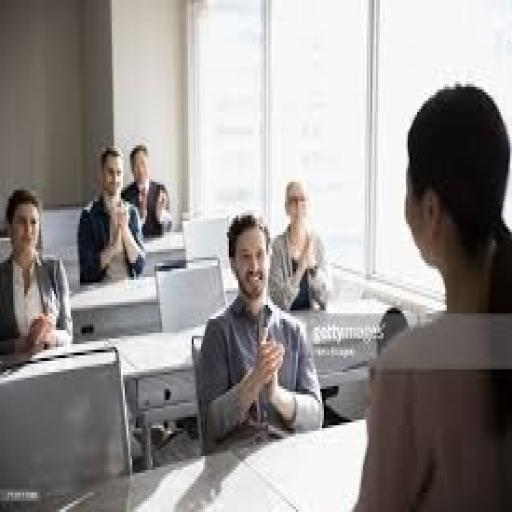clapping: (192, 210, 326, 453), (0, 184, 74, 358), (75, 143, 147, 288), (266, 176, 332, 314), (119, 140, 175, 241)
